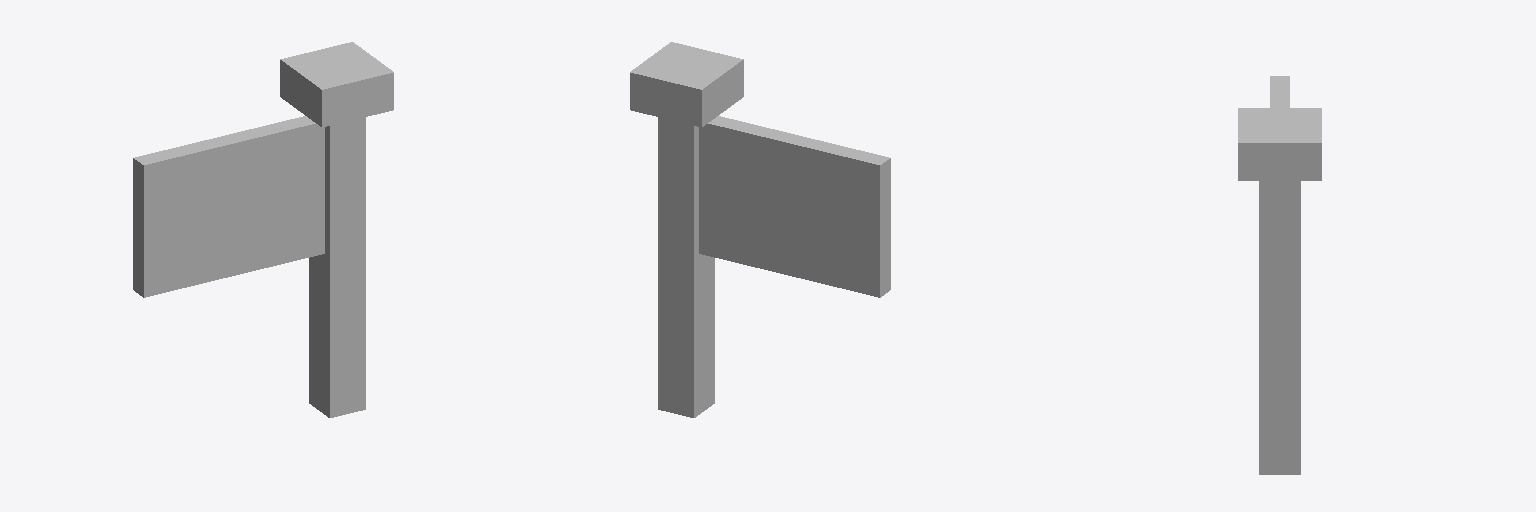
The model's file is caravan_target_enabled.obj.
3 renders of one model, left to right at view 1: azimuth 30°, elevation 25°; view 2: azimuth 150°, elevation 25°; view 3: azimuth 270°, elevation 25°, orthographic.
Visible parts, largest first — view 1: flag, cube, top; view 2: flag, cube, top; view 3: cube, top, flag.
Part boxes in pixels (x1,y1,x2,y2): flag: (133, 116, 324, 297); cube: (309, 117, 365, 417); top: (280, 42, 393, 127); flag: (699, 116, 890, 297); cube: (658, 117, 714, 417); top: (630, 42, 743, 127); cube: (1259, 181, 1300, 474); top: (1238, 108, 1321, 180); flag: (1270, 76, 1289, 107).
Bounding box in the file's own units: 0.8125 × 1.12 × 0.25.